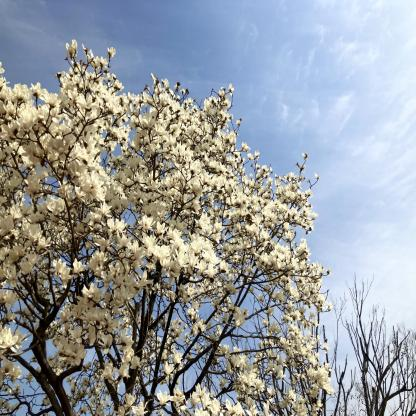Mokuren: (0, 39, 334, 416)
